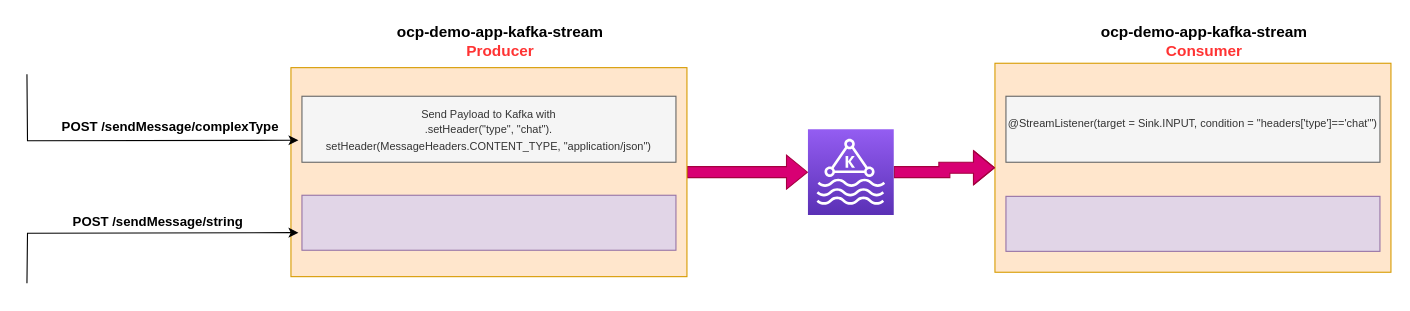
Some shapes in this 1410 by 311 pixel diagram are drawn without their labels. Each missing label, with the box of its shape:
@StreamListener(target = Sink.INPUT): (1005, 195, 1380, 251)
Send Payload to Kafka with .setHeader("type", "String").: (301, 194, 676, 250)
